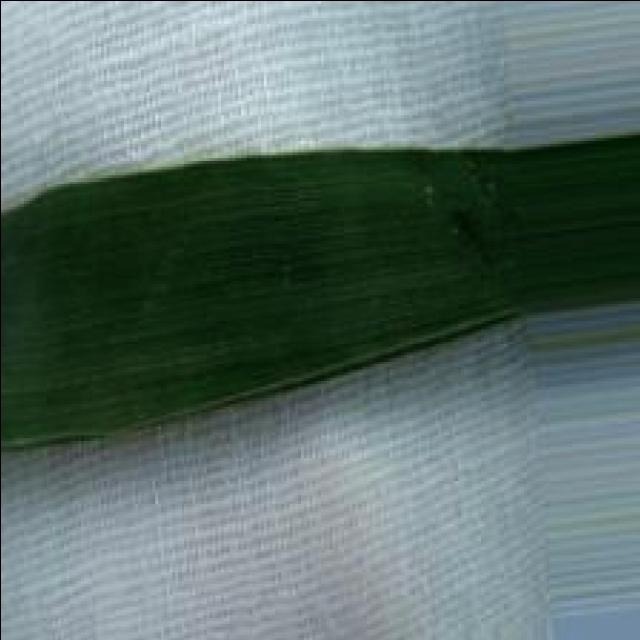Healthy: (0, 134, 640, 457)
